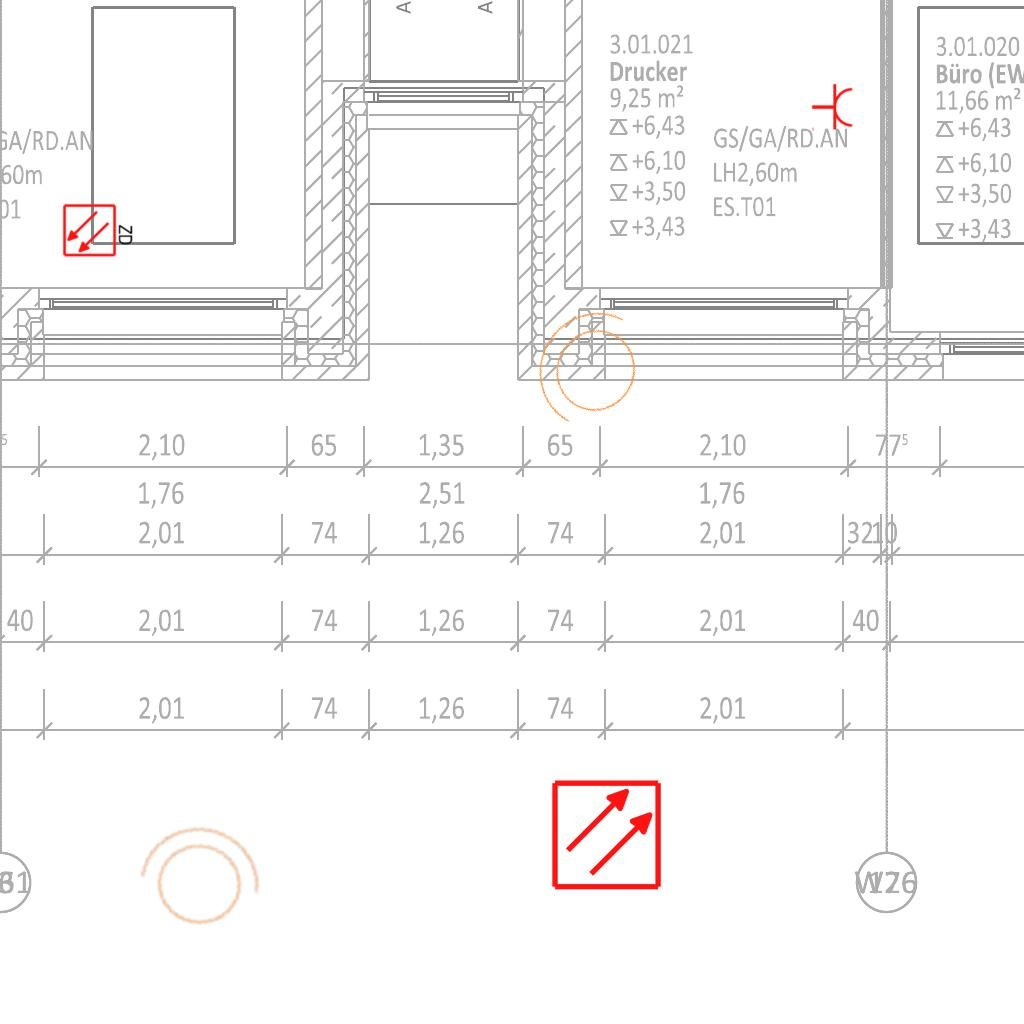RMO_Rauchmelder_optischer: (550, 778, 663, 891)
Scheinwerfer_fuer_Alarmbeleuchtung: (509, 286, 671, 456), (123, 814, 271, 944)
Schukosteckdose_einfach: (811, 83, 854, 133)
ZD_Melder_in_Zwischendecke_mit_Revisionsoeffnung_mind_40_x_40_cm: (62, 201, 136, 258)
